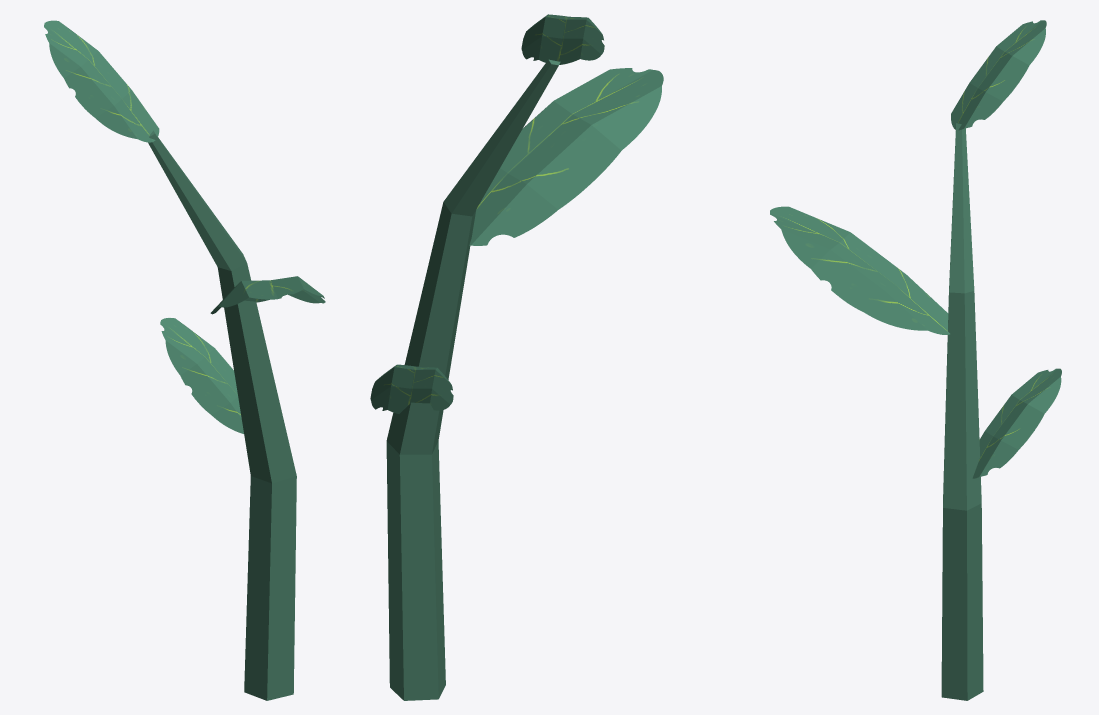
The model's file is soy_small.fbx.
3 views of the same model, side by side, from view 1: azimuth 30°, elevation 25°; view 2: azimuth 150°, elevation 25°; view 3: azimuth 270°, elevation 25° (orthographic). The views are drawn at different scales.
Visible parts, largest first — view 1: Cylinder.016; view 2: Cylinder.016; view 3: Cylinder.016.
Part boxes in pixels (x1,y1,x2,y2): Cylinder.016: (44,20,325,700); Cylinder.016: (370,14,663,700); Cylinder.016: (770,20,1061,700).
Size of the model in its own units: 33.74 by 91.32 by 48.52.
